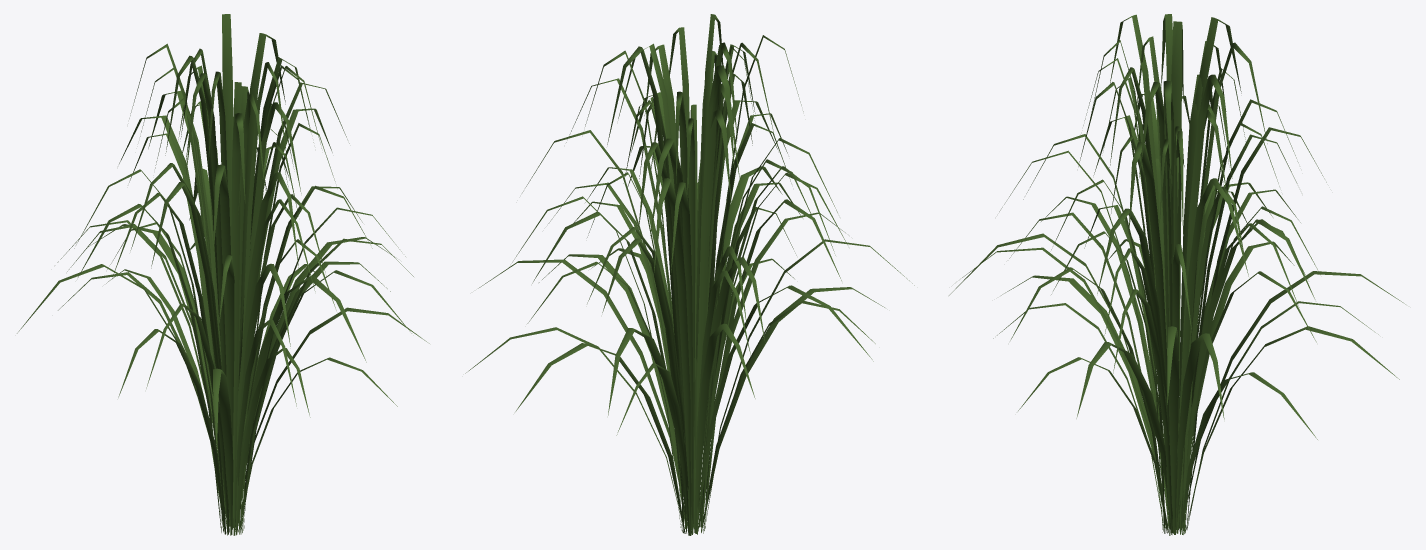
File: ornamental_grass_06.glb
3 views of the same model, side by side, from view 1: azimuth 30°, elevation 25°; view 2: azimuth 150°, elevation 25°; view 3: azimuth 270°, elevation 25° (orthographic).
Visible parts, largest first — view 1: ORNAMENTAL_GRASS_06; view 2: ORNAMENTAL_GRASS_06; view 3: ORNAMENTAL_GRASS_06.
Part boxes in pixels (x1,y1,x2,y2): ORNAMENTAL_GRASS_06: [17, 14, 429, 535]; ORNAMENTAL_GRASS_06: [465, 14, 914, 535]; ORNAMENTAL_GRASS_06: [949, 14, 1405, 535].
Bounding box in the file's own units: 0.9103 × 1.08 × 0.9129.
